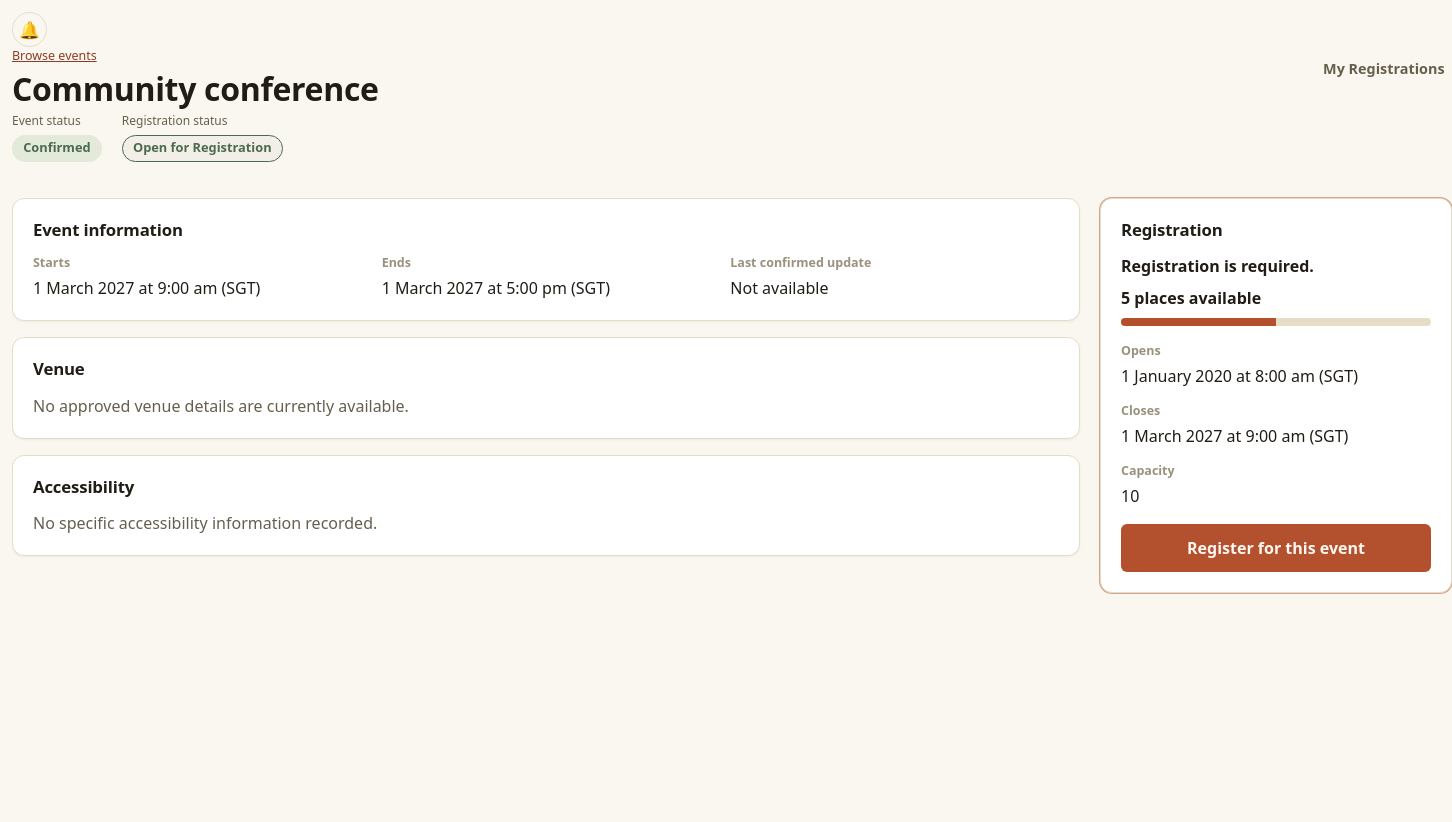
Test case: AT03 immediate registration notification refresh › AT03 (negative): a refused registration neither refreshes the bell as a success nor displays a confirmation
Click the button "Register for this event": (1276, 548) [1121, 524, 1431, 572]
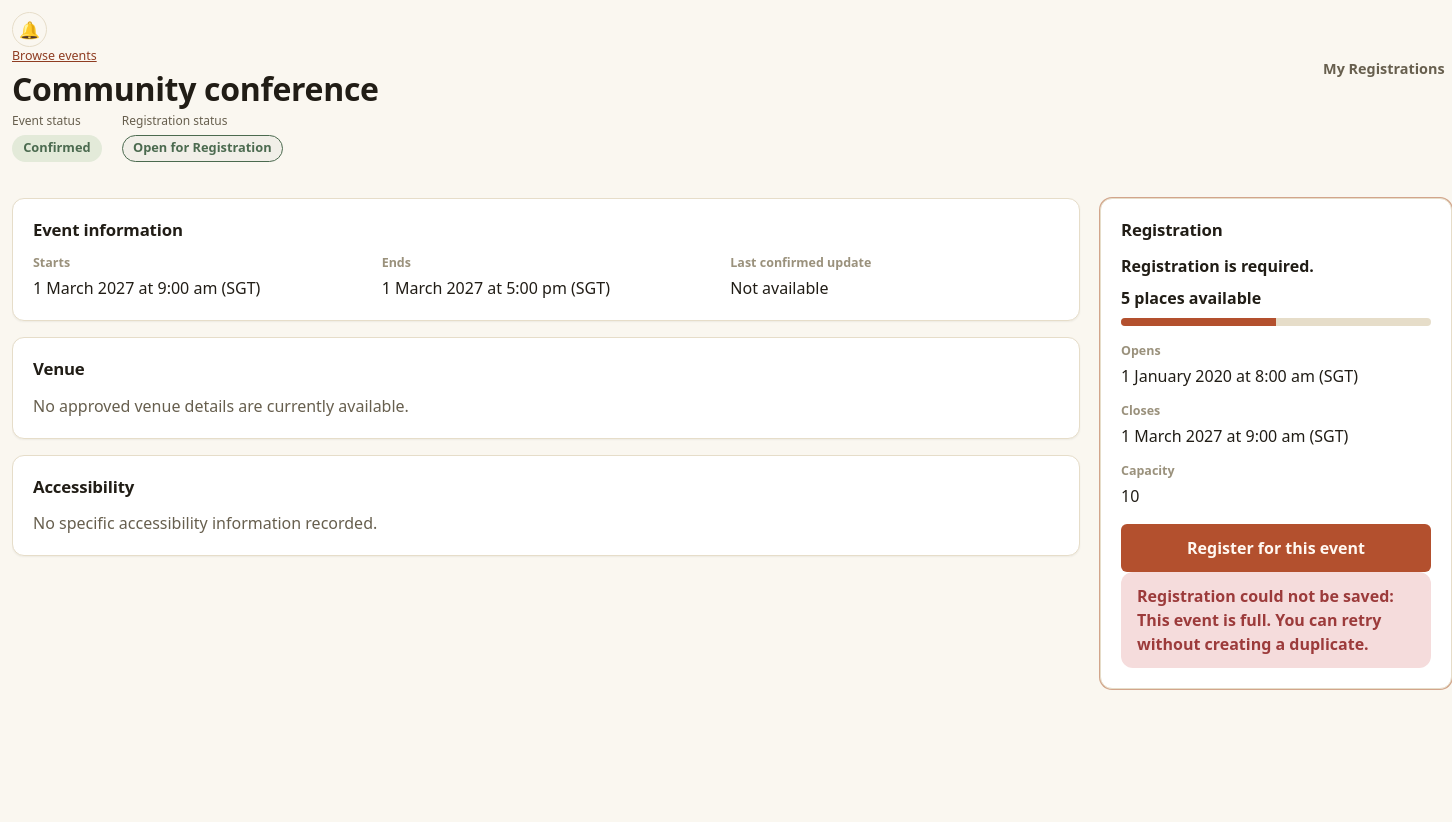
Now the message shows "This event is full.", box [1137, 585, 1394, 631]
